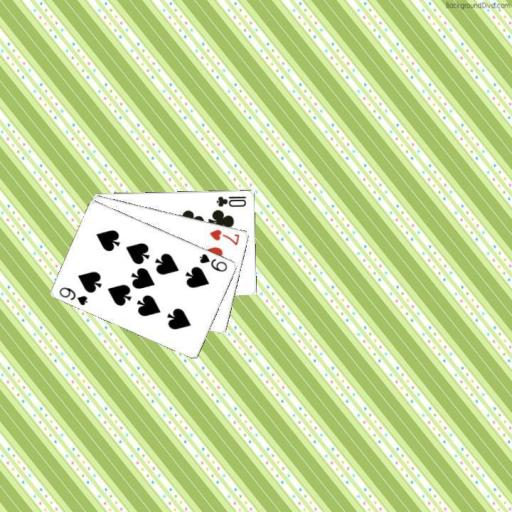card-corner: (196, 250, 229, 273), (206, 226, 241, 247), (56, 284, 89, 306), (214, 192, 248, 208)
